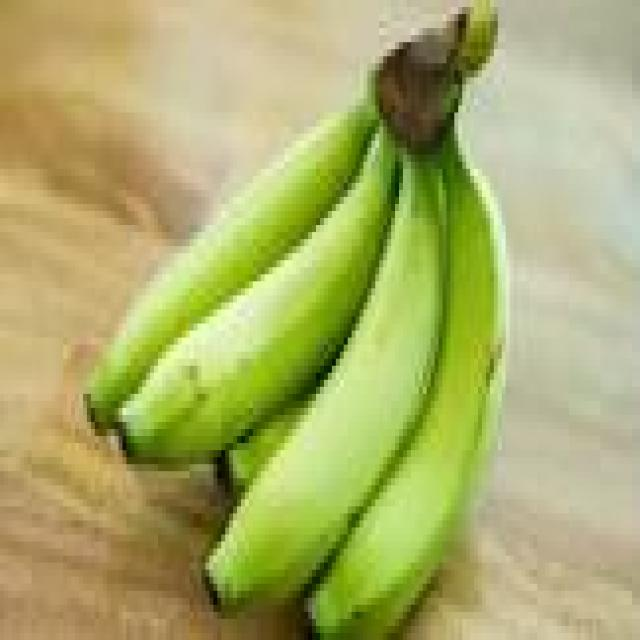banana: (206, 162, 442, 604), (313, 134, 509, 639), (87, 99, 375, 429), (119, 127, 399, 464), (222, 401, 308, 492)
